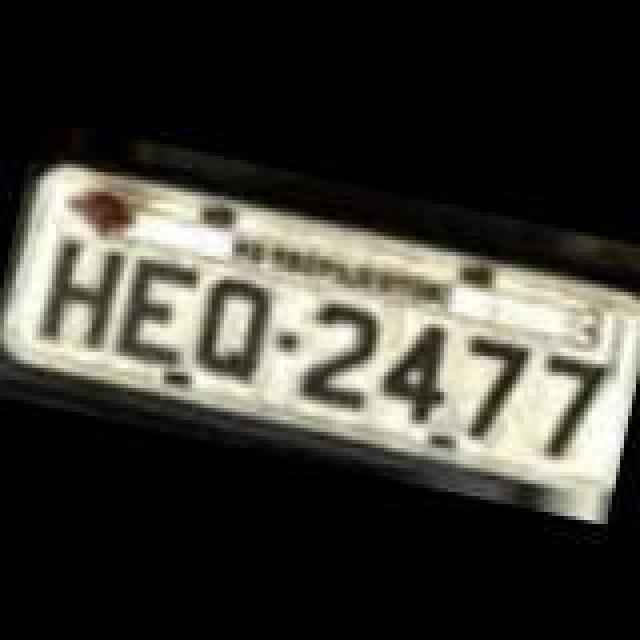2: (292, 292, 388, 412)
4: (372, 312, 460, 432)
7: (518, 344, 618, 472), (442, 326, 534, 450)
E: (108, 252, 204, 372)
H: (30, 230, 130, 362)
Q: (184, 268, 280, 388)
